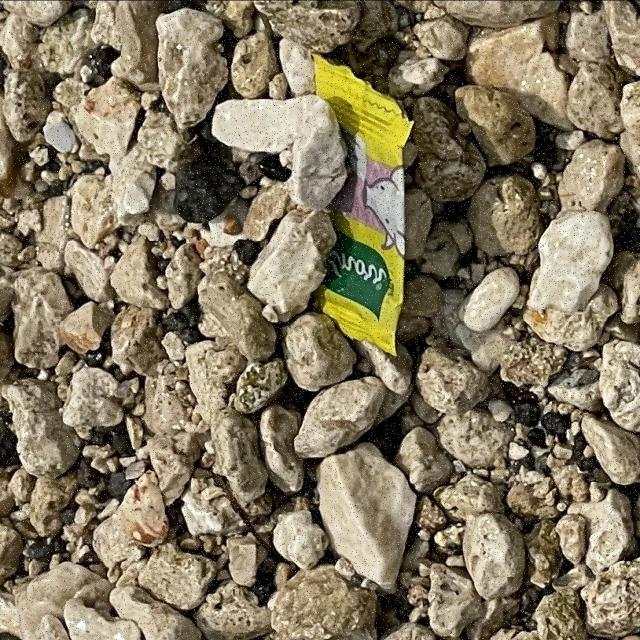plastic_waste: (315, 55, 417, 360)
